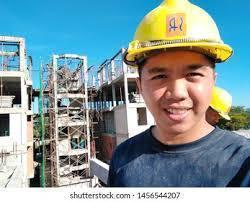helmet: (125, 1, 233, 60)
